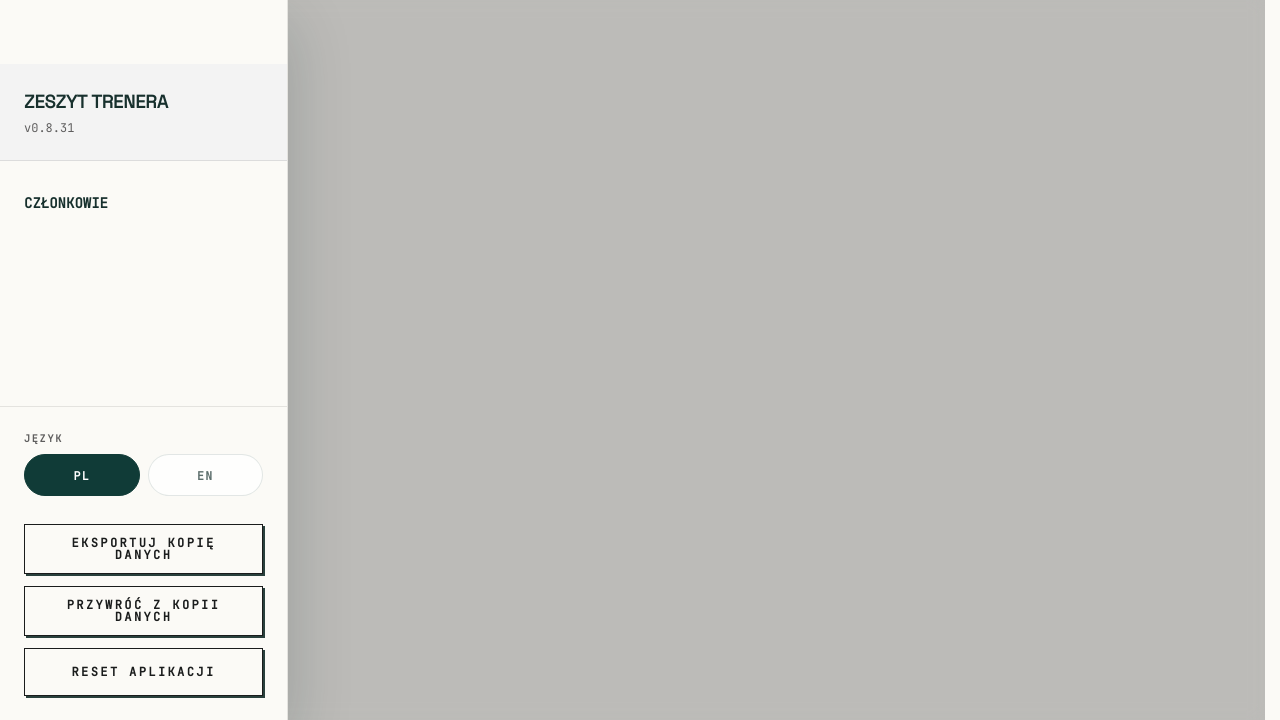
Test case: SidebarMenu › switches locale and persists the choice locally
Click the button with test id "locale-en" at (205, 475), box [148,454,263,496]
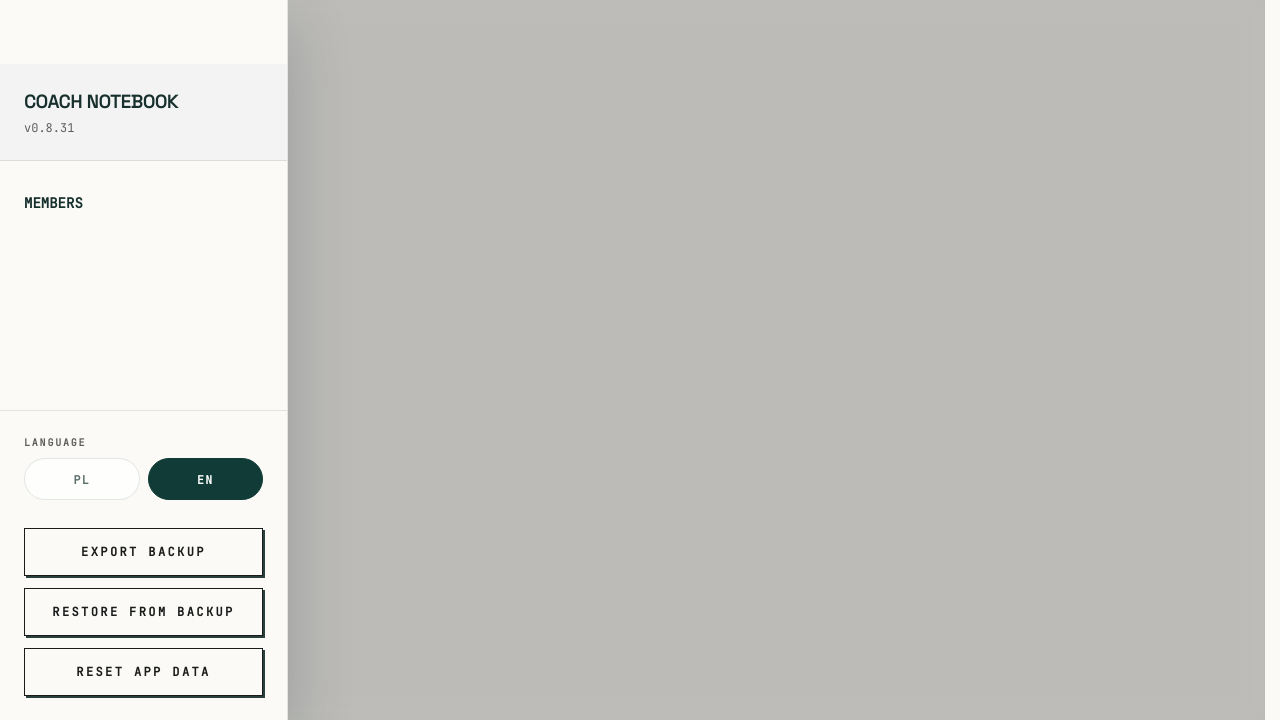
Expected: the text "Language" is shown, [24,436,86,449]
